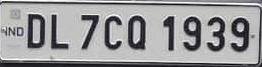character: (49, 12, 71, 50), (102, 12, 124, 50), (126, 13, 148, 51), (80, 12, 101, 51), (229, 15, 250, 54), (25, 11, 46, 49), (182, 14, 203, 52), (205, 15, 226, 52), (161, 13, 176, 51)
